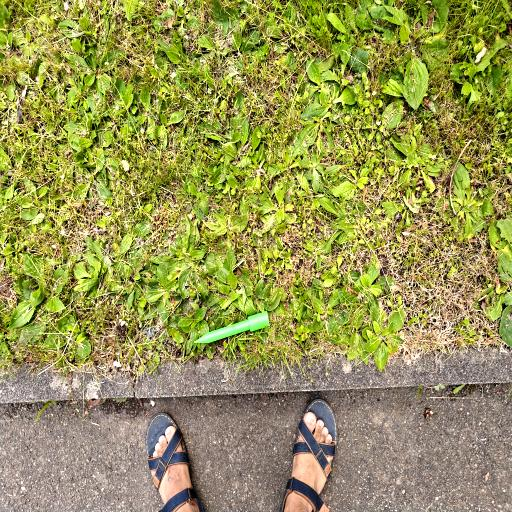Probe-Detection: (195, 311, 269, 343)
